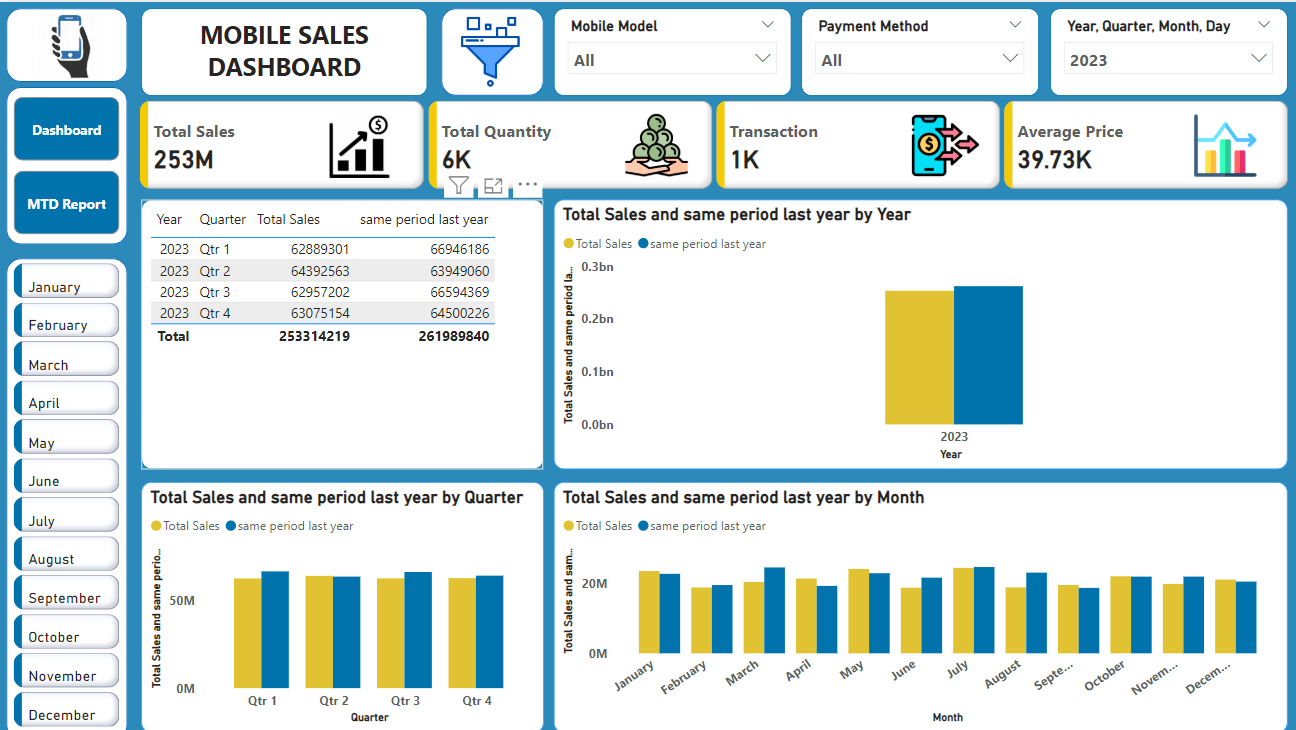

Layout of this report page (visuals, bound fields, positions):
{"tool":"powerbi","page":{"name":"Dashboard","canvas":[1280,720],"ordinal":0},"visuals":[{"type":"shape","box":[6.1,82.9,118.3,153.7],"z":0},{"type":"shape","box":[6.4,243.6,117.9,469.2],"z":1000},{"type":"shape","box":[6.1,6.1,118.3,72],"z":2000},{"type":"image","box":[0,6.1,137.8,74.4],"z":3000},{"type":"advancedSlicerVisual","fields":{"Values":["Query1.Date.Variation.Date Hierarchy.Month"]},"box":[6.1,243.9,113.4,463.4],"z":4000},{"type":"cardVisual","fields":{"Data":["Sales_data.Total Sales","Sales_data.Total Quantity","Sales_data.Transaction","Sales_data.Average Price"]},"box":[131.7,91.5,1132.9,96.3],"z":5000},{"type":"image","box":[1140.2,104.9,109.8,70.7],"z":6000},{"type":"image","box":[581.7,102.4,117.1,74.4],"z":7000},{"type":"image","box":[876.8,102.4,91.5,75.6],"z":9000},{"type":"image","box":[295.1,106.1,111,70.7],"z":10000},{"type":"slicer","fields":{"Values":["Sales_data.Mobile Model"]},"box":[540.2,6.1,231.7,85.4],"z":11000},{"type":"slicer","fields":{"Values":["Sales_data.Payment Method"]},"box":[781.7,6.1,231.7,85.4],"z":12000},{"type":"slicer","fields":{"Values":["Sales_data.Brand"]},"box":[1024.4,6.1,231.7,85.4],"z":13000},{"type":"shape","box":[430.5,6.1,100,85.4],"z":14000},{"type":"image","box":[425.6,8.5,104.9,80.5],"z":15000},{"type":"textbox","box":[137.8,6.1,279.3,85.4],"z":16000},{"type":"map","fields":{"Category":["Sales_data.City"],"Size":["Sales_data.Total Sales"]},"box":[137.8,187.8,357.3,356.1],"z":17000},{"type":"lineChart","fields":{"Category":["Query1.Date.Variation.Date Hierarchy.Month"],"Y":["Sales_data.Total Quantity"]},"box":[504.9,187.8,751.2,180.5],"z":17001},{"type":"funnel","title":"Customer Ratings by Rating Status","fields":{"Y":["CountNonNull(Sales_data.Customer Ratings)"],"Category":["Sales_data.Rating Status"]},"box":[504.9,376.8,375.6,167.1],"z":17002},{"type":"pieChart","fields":{"Y":["Sales_data.Transaction"],"Category":["Sales_data.Payment Method"]},"box":[889,376.8,367.1,167.1],"z":17003},{"type":"clusteredBarChart","fields":{"Y":["Sales_data.Total Sales"],"Category":["Sales_data.Mobile Model"]},"box":[507.3,553.7,373.2,159.8],"z":17004},{"type":"areaChart","fields":{"Y":["Sales_data.Total Sales"],"Category":["Query1.Day Name"]},"box":[889,553.7,367.1,159.8],"z":17005},{"type":"tableEx","fields":{"Values":["Sales_data.Brand","Sales_data.Total Sales","Sales_data.Transaction","Sales_data.Total Quantity"]},"box":[137.8,553.7,358.5,159.8],"z":17006},{"type":"pageNavigator","box":[13.4,92.7,103.7,135.4],"z":17007}]}

Visuals, with their boxes in screenshot pixels (x1, y1, x2, y2), scaled from the page's 1280x720 canvas onto the 1296x730 screenshot:
shape: 6/84/126/240
shape: 6/247/126/723
shape: 6/6/126/79
image: 0/6/140/82
advancedSlicerVisual - Query1.Date.Variation.Date Hierarchy.Month: 6/247/121/717
cardVisual - Sales_data.Total Sales x Sales_data.Total Quantity: 133/93/1280/190
image: 1154/106/1266/178
image: 589/104/708/179
image: 888/104/980/180
image: 299/108/411/179
slicer - Sales_data.Mobile Model: 547/6/782/93
slicer - Sales_data.Payment Method: 791/6/1026/93
slicer - Sales_data.Brand: 1037/6/1272/93
shape: 436/6/537/93
image: 431/9/537/90
textbox: 140/6/422/93
map - Sales_data.City x Sales_data.Total Sales: 140/190/501/551
lineChart - Query1.Date.Variation.Date Hierarchy.Month x Sales_data.Total Quantity: 511/190/1272/373
"Customer Ratings by Rating Status" funnel: 511/382/892/551
pieChart - Sales_data.Transaction x Sales_data.Payment Method: 900/382/1272/551
clusteredBarChart - Sales_data.Total Sales x Sales_data.Mobile Model: 514/561/892/723
areaChart - Sales_data.Total Sales x Query1.Day Name: 900/561/1272/723
tableEx - Sales_data.Brand x Sales_data.Total Sales: 140/561/503/723
pageNavigator: 14/94/119/231
